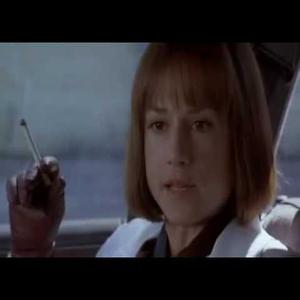cigarette: (20, 118, 49, 182)
